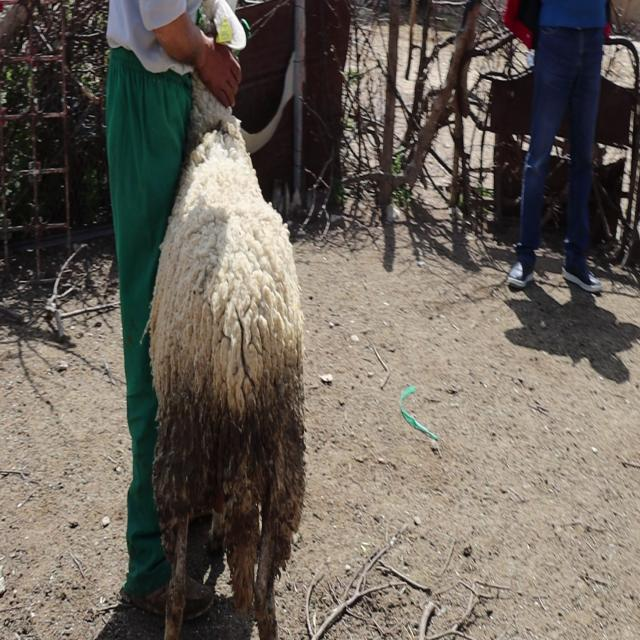Score_5: (146, 72, 305, 639)
